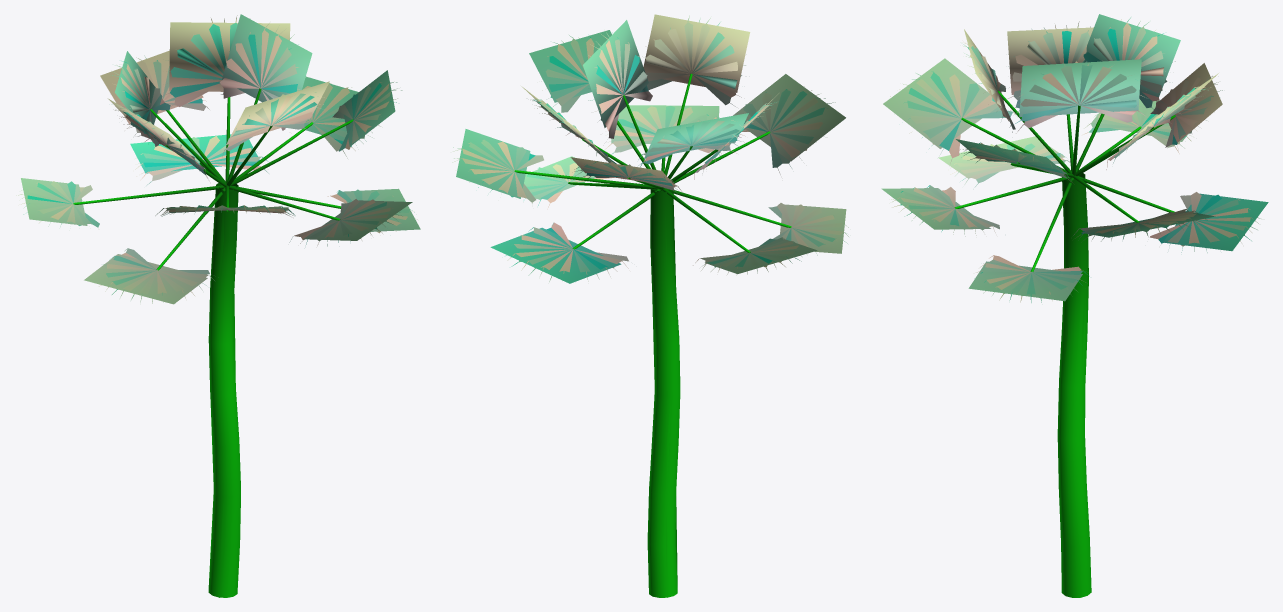
The model's file is fan_palm_1.glb.
3 views of the same model, side by side, from view 1: azimuth 30°, elevation 25°; view 2: azimuth 150°, elevation 25°; view 3: azimuth 270°, elevation 25° (orthographic). The views are drawn at different scales.
Parts seen in each view (by area): view 1: near, mid; view 2: near, mid; view 3: near, mid.
Boxes of the visible parts, x1,y1,x2,y2 form: near: [16, 15, 417, 597]; mid: [21, 14, 420, 597]; near: [452, 15, 848, 597]; mid: [456, 14, 846, 595]; near: [890, 17, 1260, 597]; mid: [881, 14, 1268, 481].
Size of the model in its own units: 6.35 by 9.31 by 5.8.
